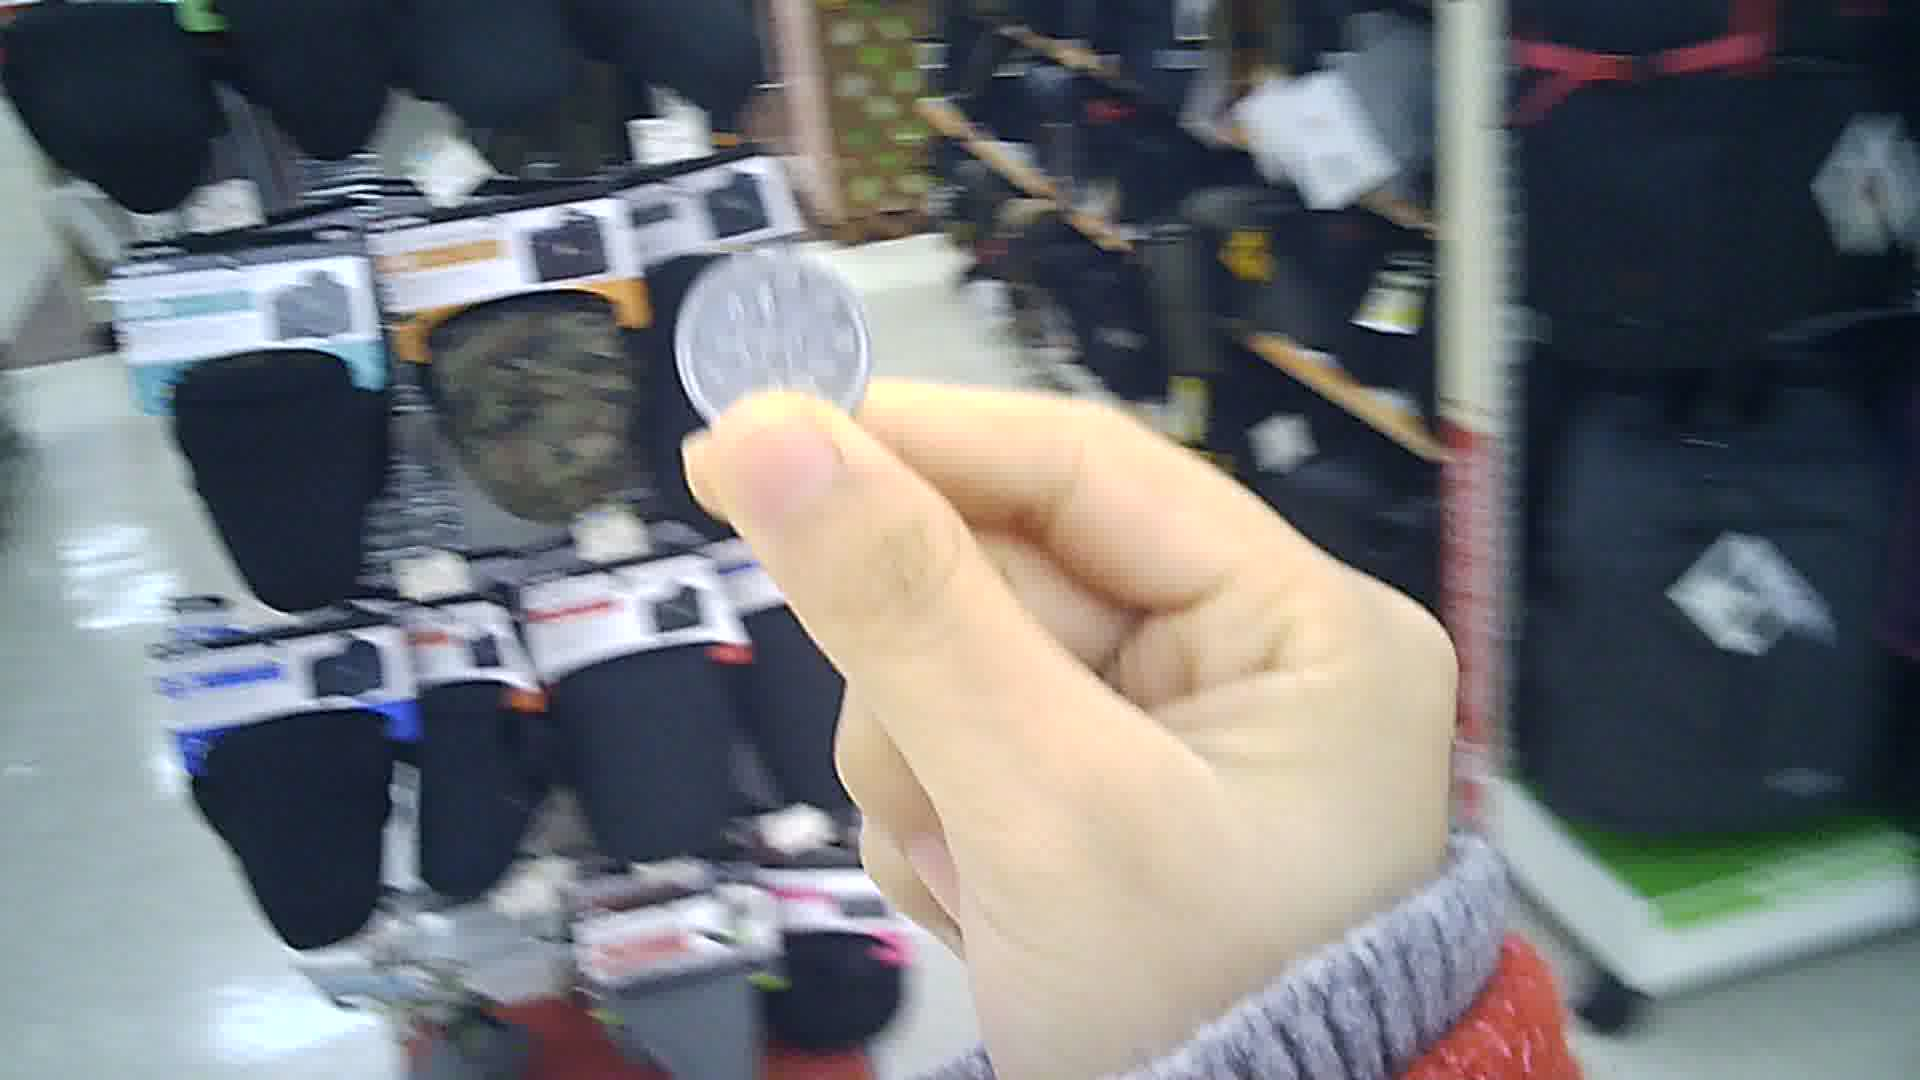1 Yen: (678, 237, 874, 425)
